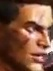kevin: (2, 1, 51, 70)
